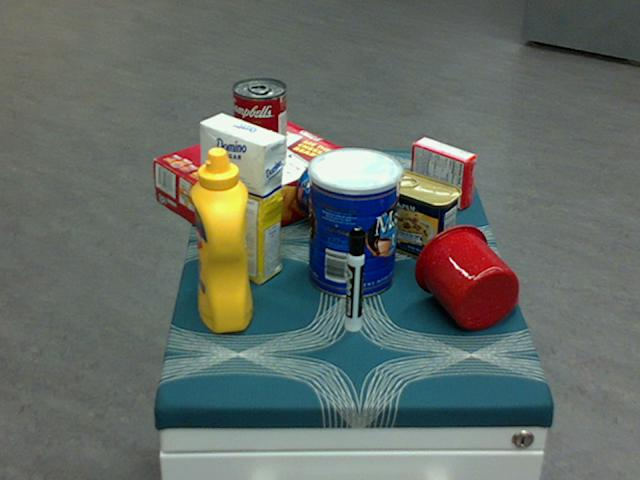cracker_box: (153, 116, 356, 250)
gelatin_box: (411, 137, 477, 209)
large_marker: (345, 227, 364, 333)
master_chef_can: (308, 147, 402, 298)
mug: (414, 224, 520, 329)
mustard_bottle: (190, 147, 252, 332)
potted_meat_can: (375, 169, 461, 260)
sugar_box: (200, 113, 284, 285)
tomato_soup_can: (232, 78, 287, 172)
tuna_fish_can: (294, 154, 363, 224)
